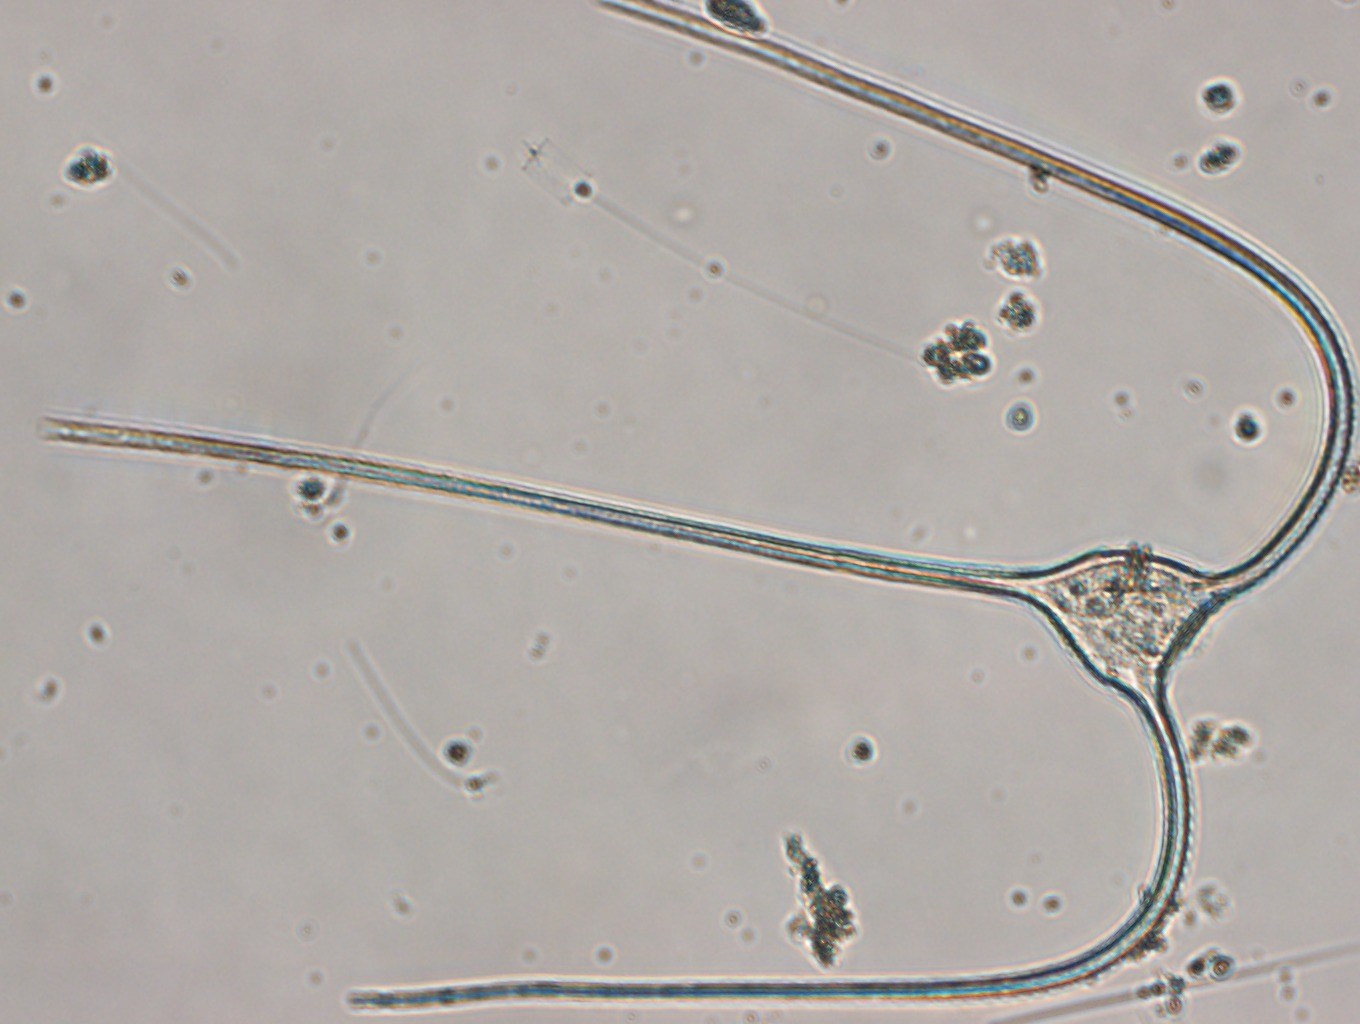ceratium trichoceros: (37, 1, 1360, 1011)
